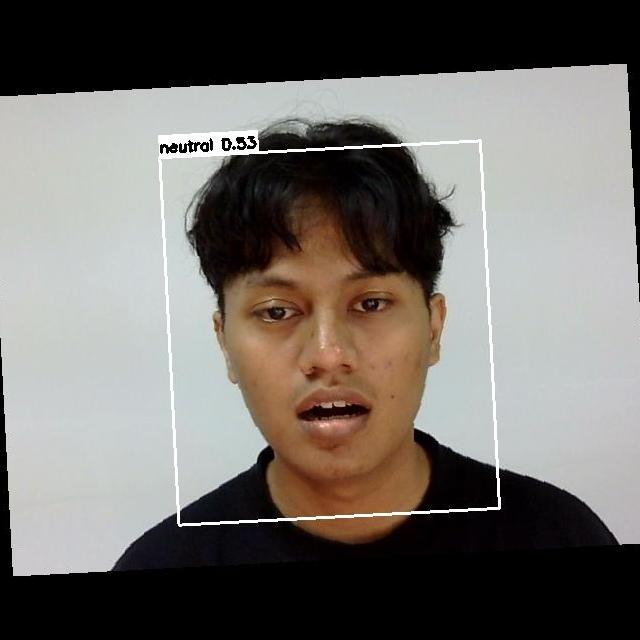Surprised: (225, 251, 432, 448)
